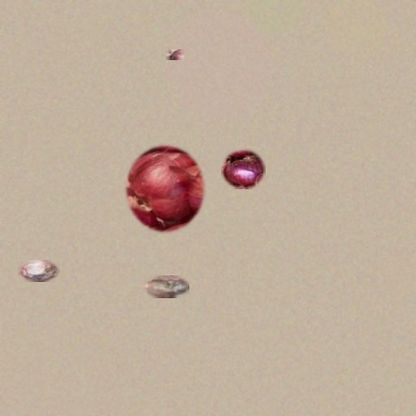healthy: (123, 143, 206, 234), (221, 149, 266, 189)
rotten: (144, 275, 189, 298), (18, 260, 59, 282)
sprouted: (166, 50, 184, 60)
